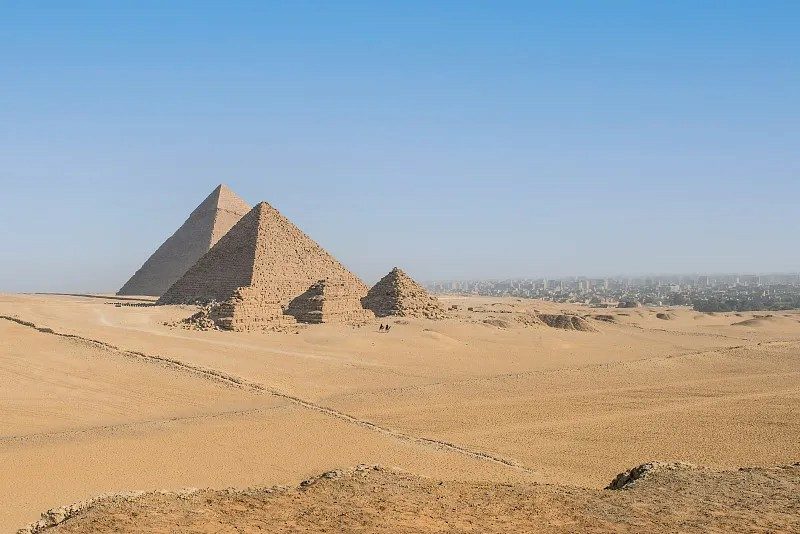Pyramid: (155, 202, 368, 304), (114, 185, 251, 295), (196, 285, 303, 334), (286, 277, 374, 324), (363, 268, 448, 316)
